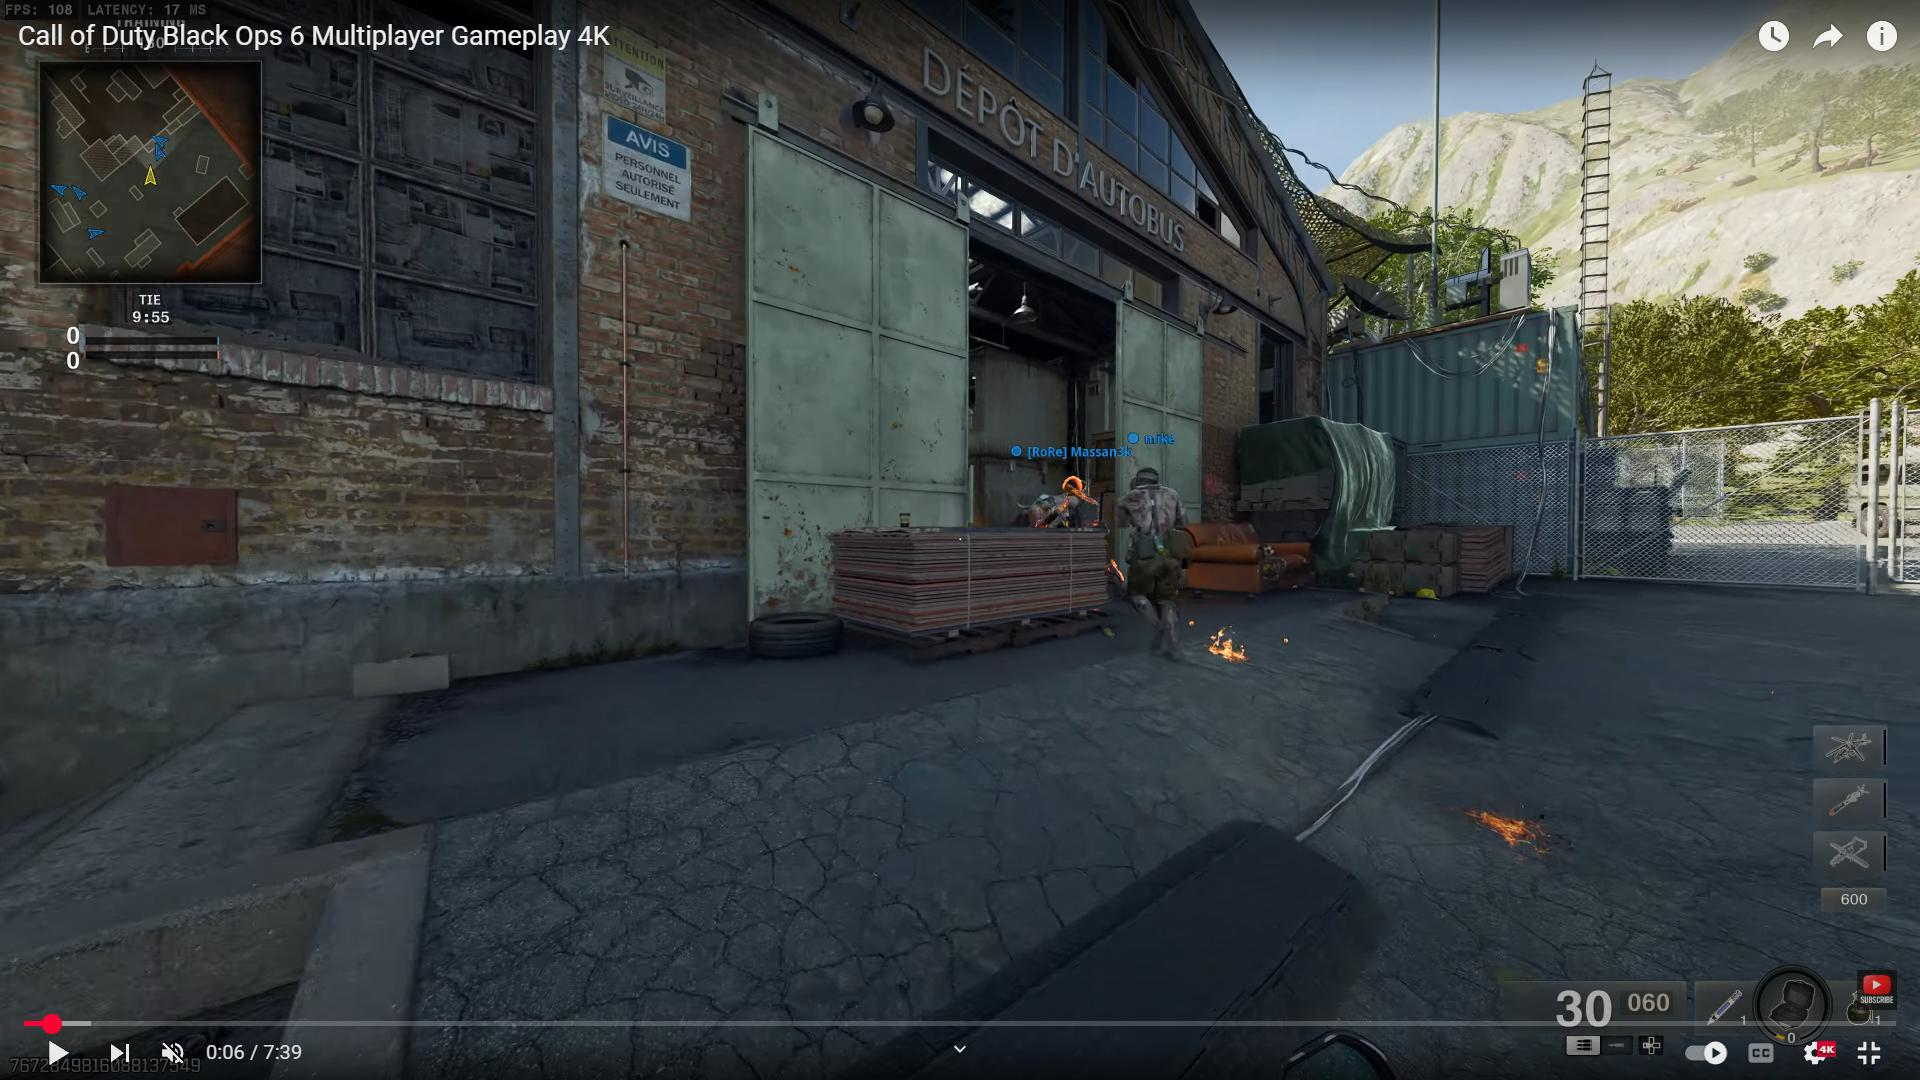Enemy: (1125, 465, 1184, 655), (1030, 469, 1108, 534)
